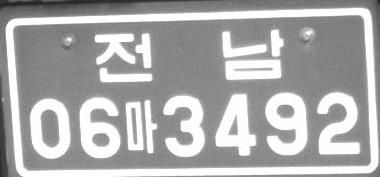0: (29, 97, 71, 158)
2: (315, 91, 360, 155)
3: (162, 94, 205, 158)
4: (216, 92, 255, 155)
6: (78, 96, 122, 159)
9: (264, 91, 307, 155)
마: (125, 99, 157, 153)
전남_D: (94, 27, 284, 84)
